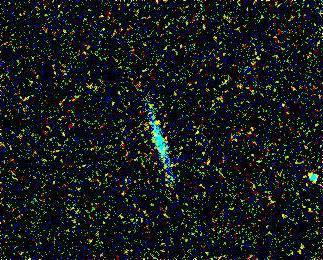star: (136, 108, 166, 138)
